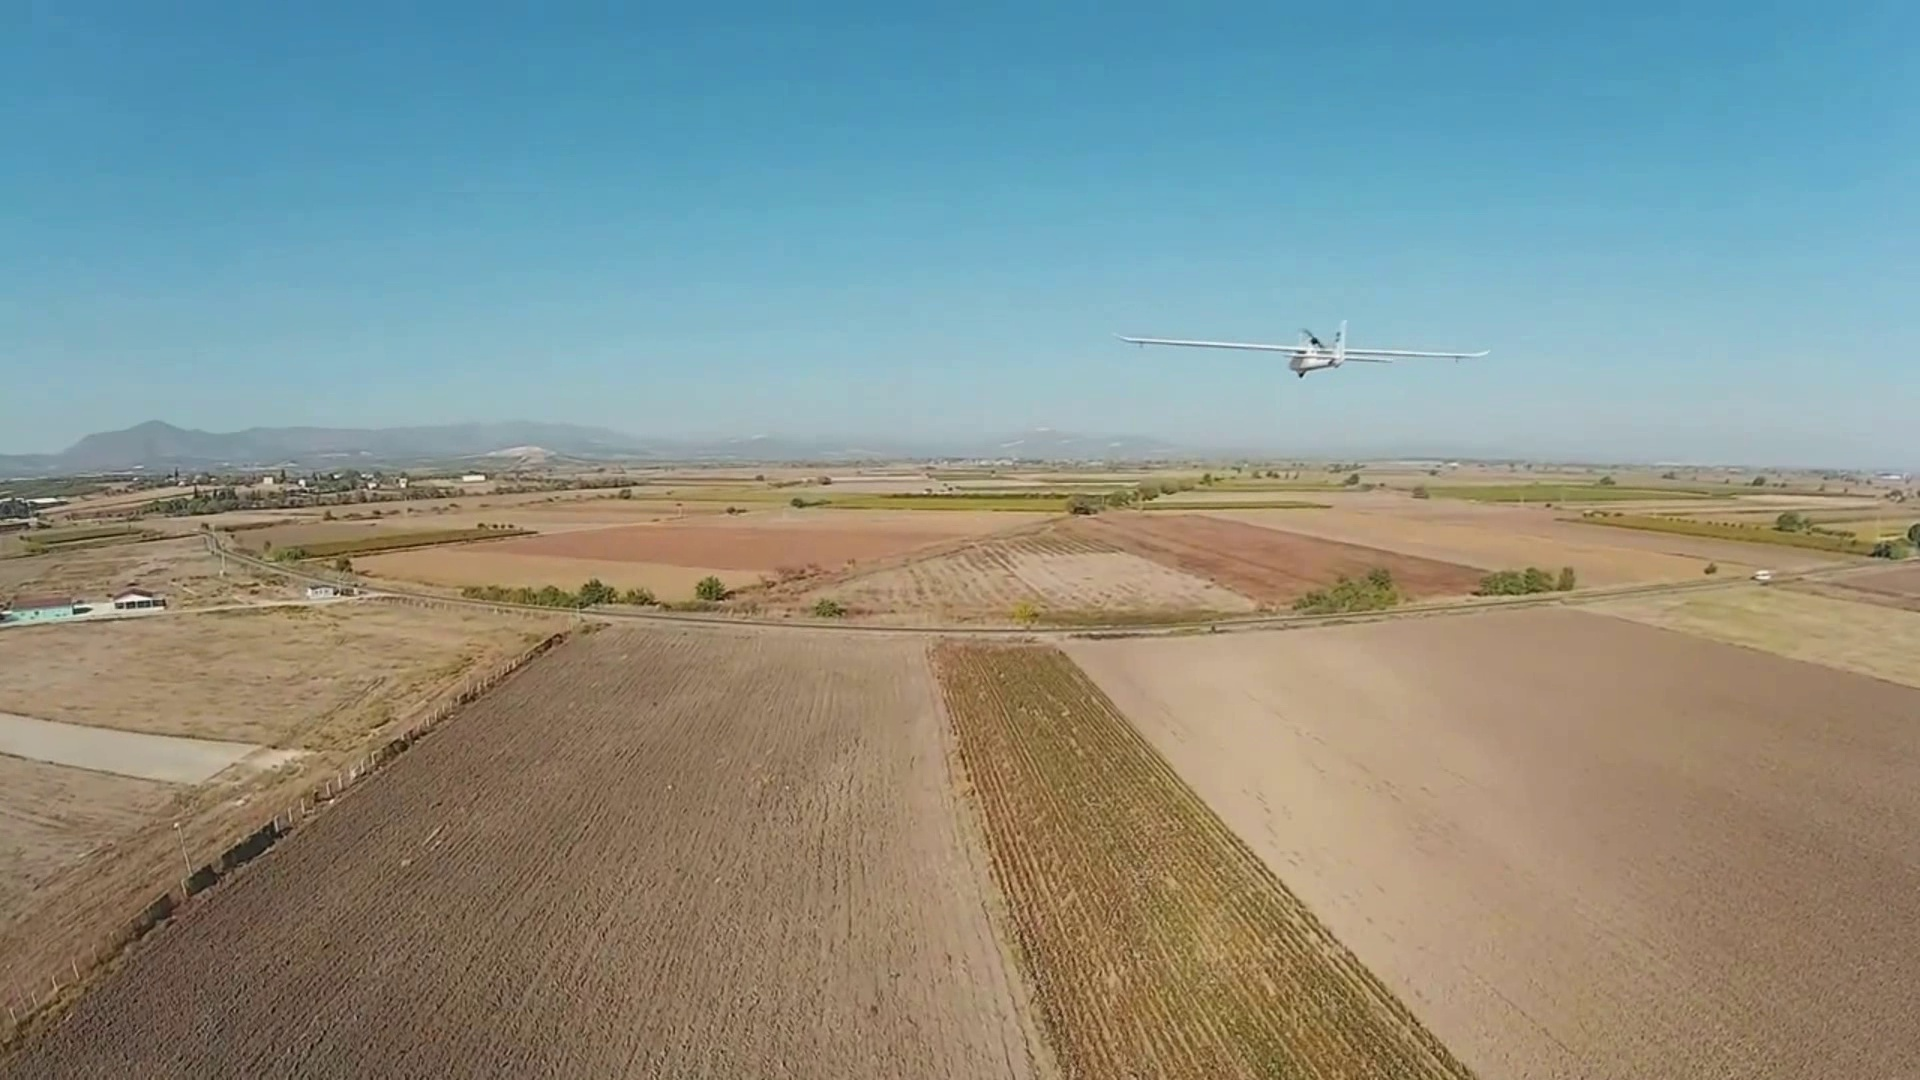airplane: (1120, 319, 1490, 376), (1284, 322, 1493, 377)
